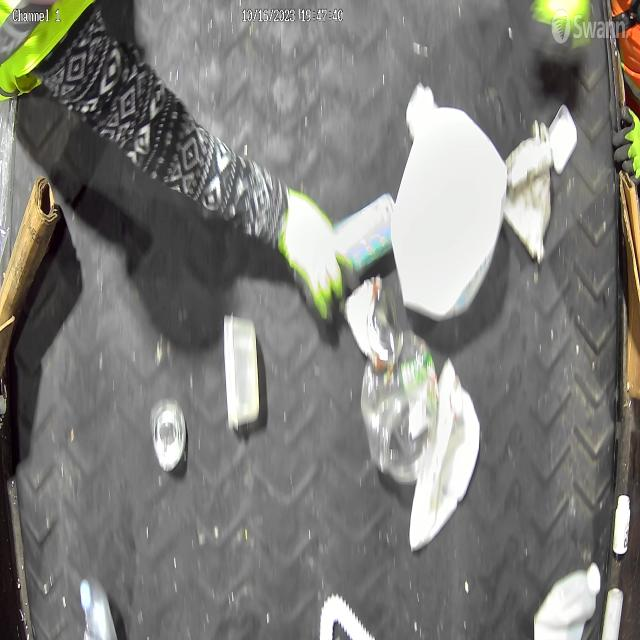can: (343, 276, 402, 366), (148, 397, 188, 473)
milk_jug: (390, 106, 509, 325)
